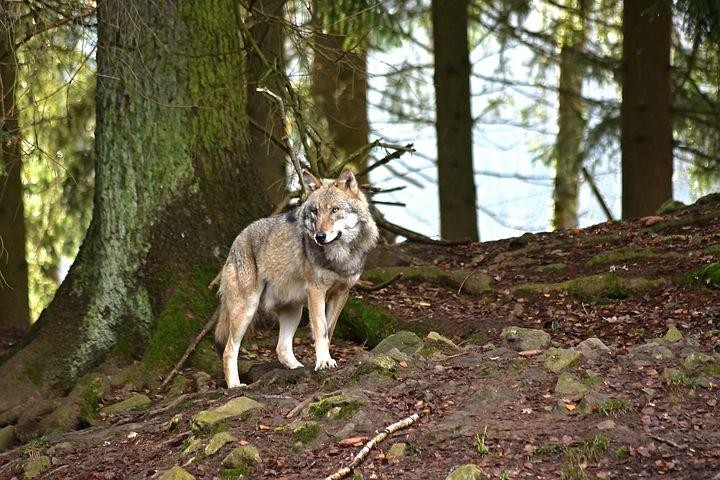Wolf: (209, 165, 381, 392)
